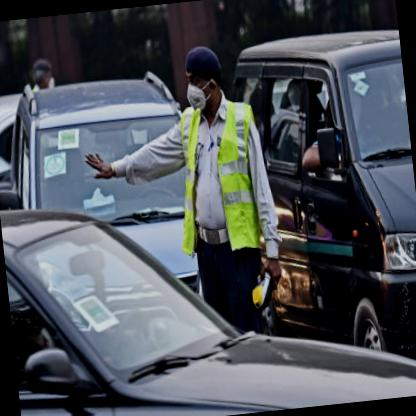car: (0, 166, 415, 415), (229, 26, 415, 386), (0, 69, 204, 319)
